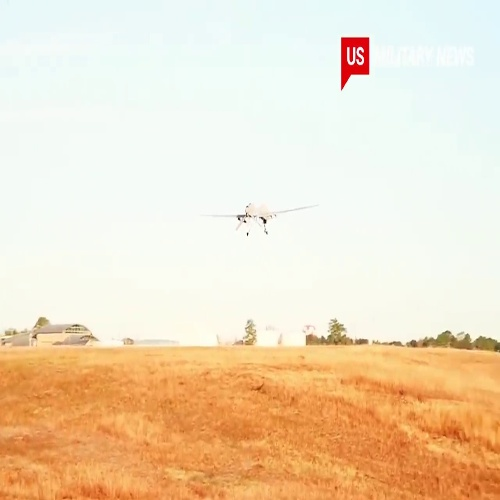uav465: (201, 196, 319, 237)
